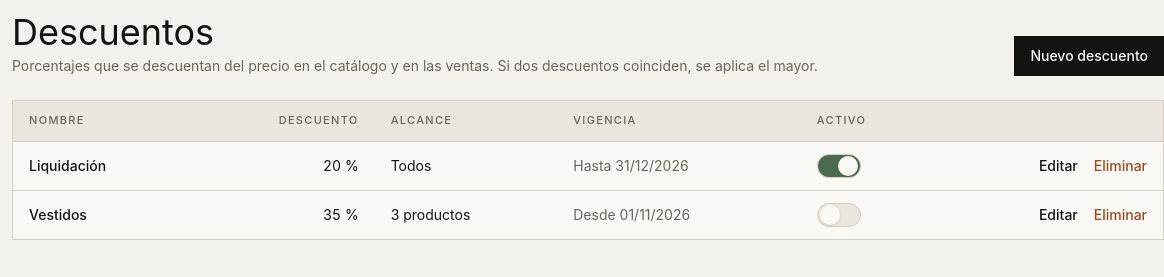
Scenario: DiscountsView › shows the error when an action fails
Click the switch named "Activo: Vestidos": {"x": 839, "y": 215} [817, 203, 861, 227]
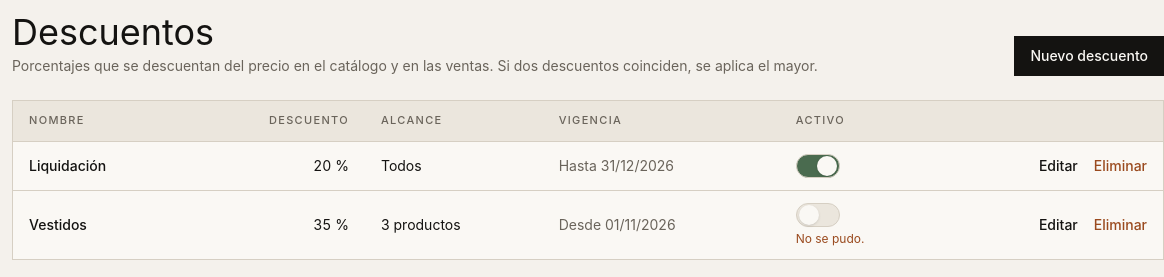
Now the message reads "No se pudo.", box [796, 231, 864, 246]
